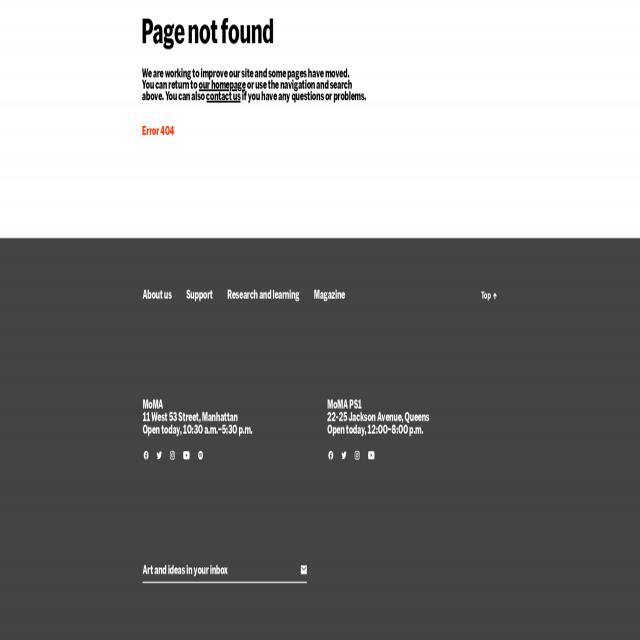button: (366, 449, 376, 462), (182, 449, 191, 462), (142, 449, 150, 462), (340, 449, 348, 462), (169, 449, 176, 462), (198, 449, 205, 462), (354, 449, 361, 462), (156, 449, 162, 462), (328, 449, 334, 462), (301, 564, 307, 576)
field: (141, 562, 300, 577)
